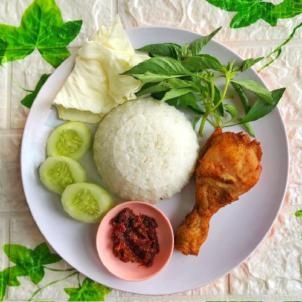ayam_goreng: (172, 124, 265, 261)
